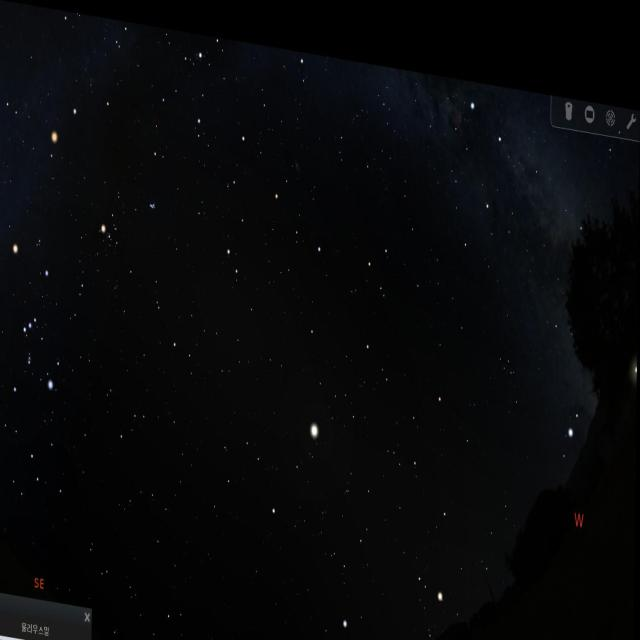cygnus: (466, 63, 588, 227)
orion: (0, 232, 59, 403)
pleiades: (143, 190, 158, 220)
taurus: (90, 158, 163, 282)
